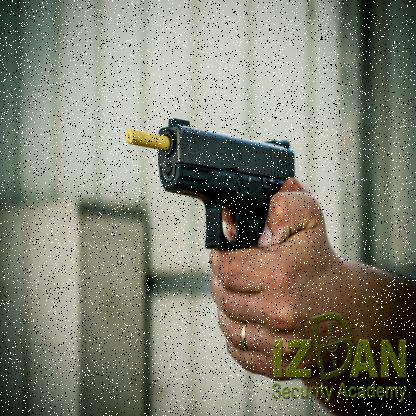pistol: (157, 120, 295, 252)
